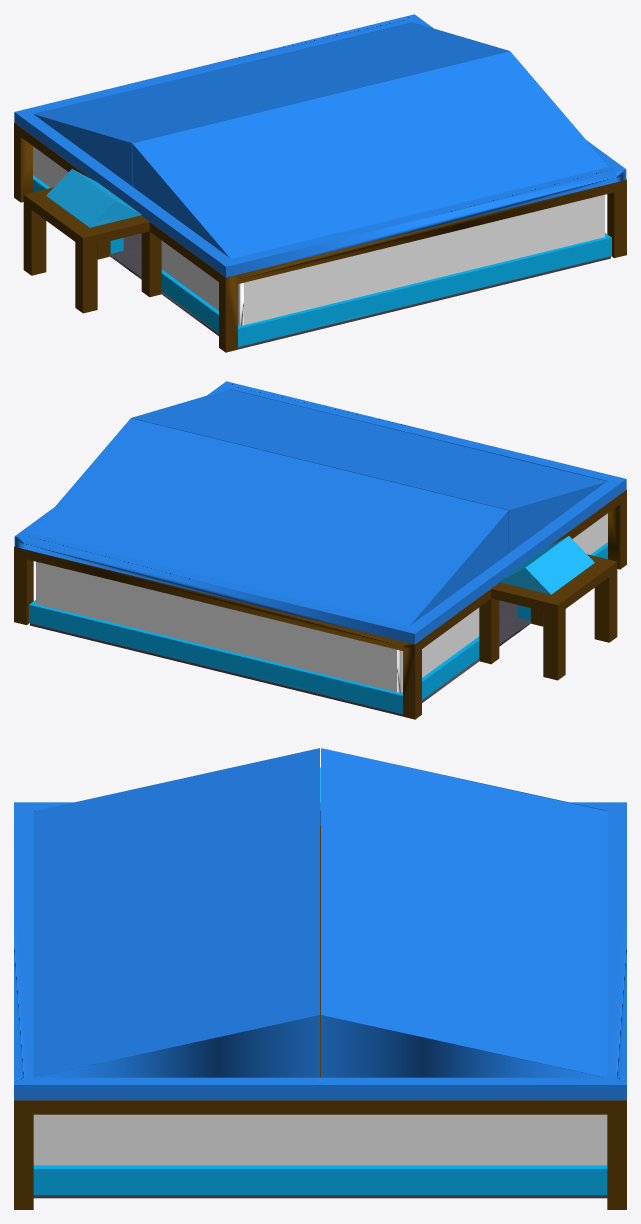
Rendered from GreenHouse 1.fbx.
The picture shows the model from 3 angles, top to bottom: view 1: azimuth 30°, elevation 25°; view 2: azimuth 150°, elevation 25°; view 3: azimuth 270°, elevation 25°; orthographic projection. The views are drawn at different scales.
Visible parts, largest first — view 1: Cube, Cube.001; view 2: Cube, Cube.001; view 3: Cube, Cube.001.
Boxes of the visible parts, x1,y1,x2,y2 form: Cube: (14, 14, 626, 352); Cube.001: (34, 147, 600, 324); Cube: (14, 381, 626, 719); Cube.001: (40, 514, 606, 691); Cube: (14, 748, 626, 1209); Cube.001: (33, 1114, 607, 1165).
Size of the model in its own units: 4709 by 1244 by 3693.
Materials: 1 (1 with a texture image).
